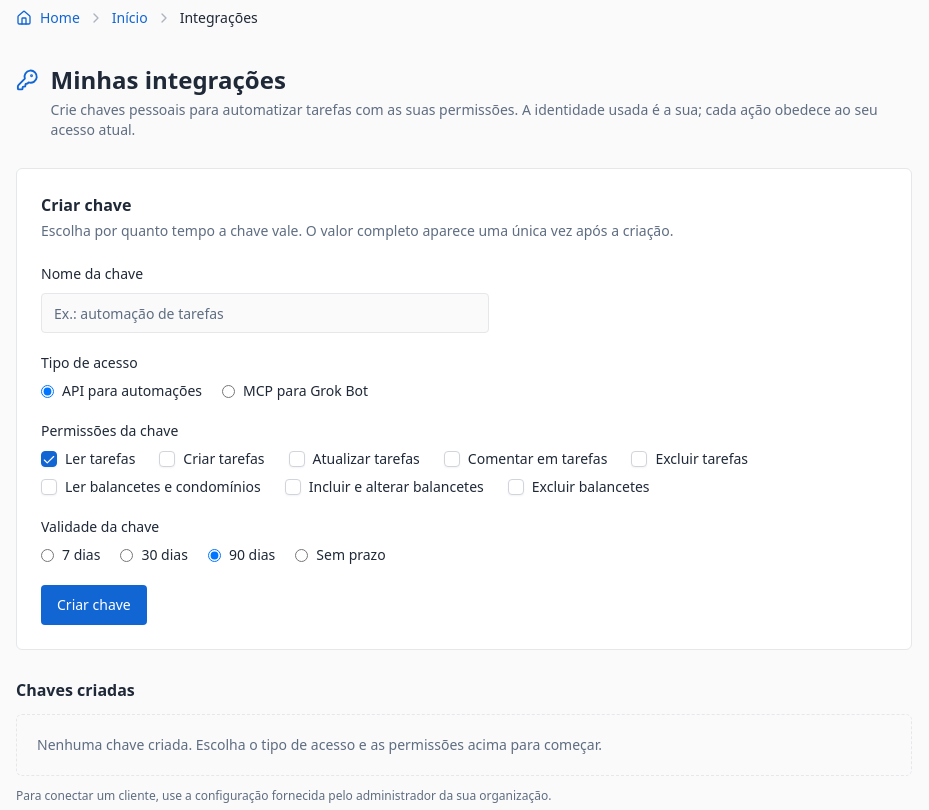
Test case: personal integration keys › key lifetime › keeps the 90-day default when the lifetime is not touched
Expected: the text "Nenhuma chave" is shown, top-left (37, 735), bottom-right (602, 754)
Type "Robô" into the field labelled "Nome da chave" at point(265, 313), box top-left (41, 293), bottom-right (489, 333)
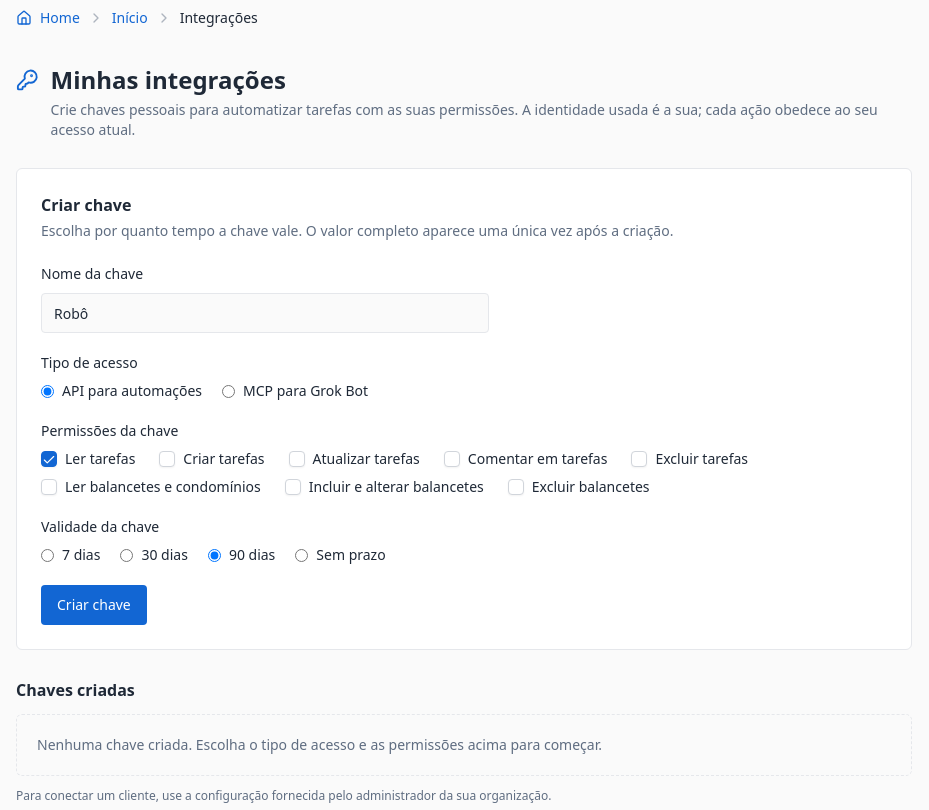
Click the button "Criar chave" at point(94, 605), box top-left (41, 585), bottom-right (147, 625)
(page scrolled)
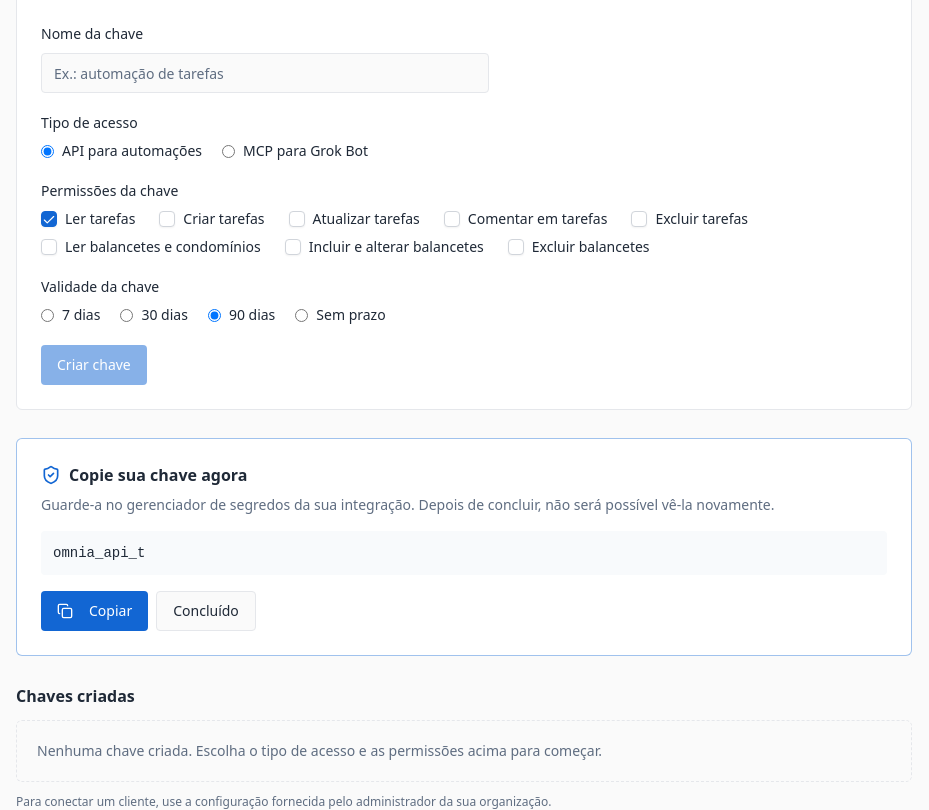
Expected: the text "omnia_api_t" is shown, top-left (41, 531), bottom-right (887, 575)
